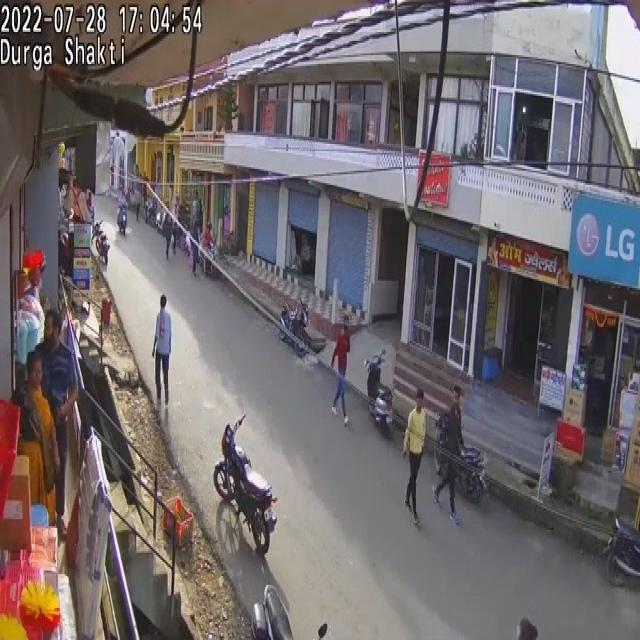non-fight: (41, 309, 77, 529), (19, 350, 60, 532), (151, 186, 211, 272), (434, 389, 464, 522), (404, 389, 427, 523), (153, 293, 172, 407), (330, 319, 350, 423), (202, 222, 215, 278), (335, 330, 350, 370), (189, 193, 204, 230), (190, 222, 200, 276), (164, 210, 175, 259), (170, 212, 178, 254), (135, 194, 141, 221)
